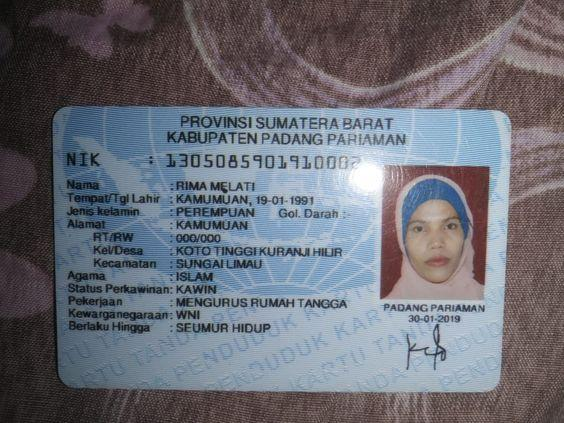ID-card: (54, 109, 505, 390)
